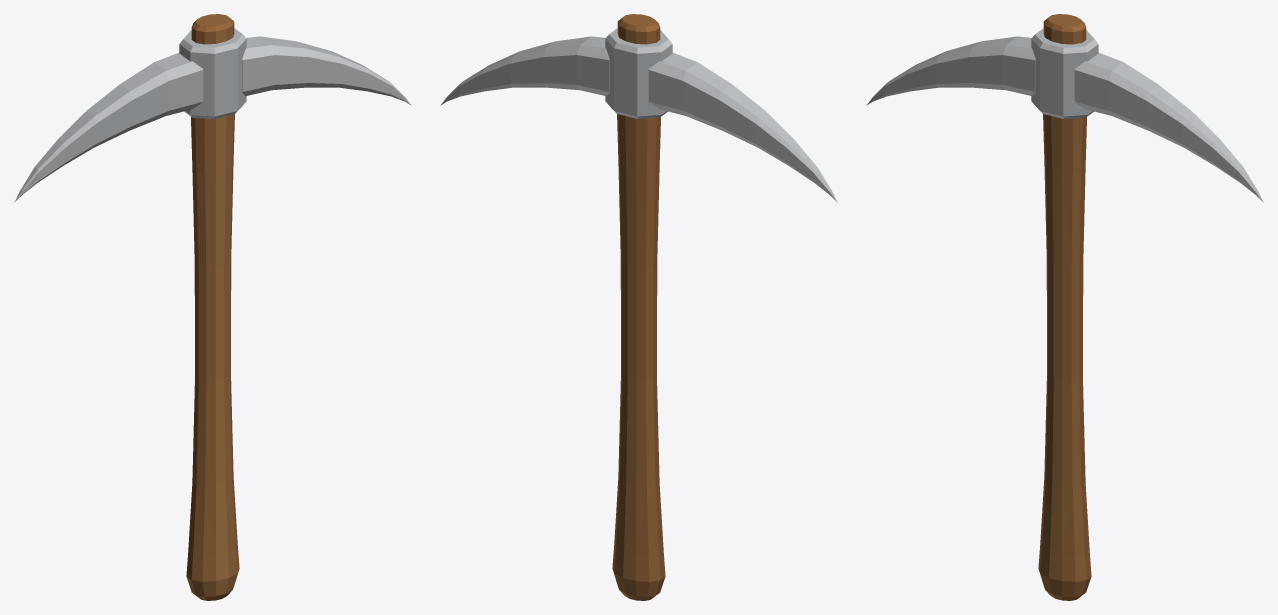
The model's file is Mining Pickaxe.glb.
3 renders of one model, left to right at view 1: azimuth 30°, elevation 25°; view 2: azimuth 150°, elevation 25°; view 3: azimuth 330°, elevation 25°, orthographic.
Parts seen in each view (by area): view 1: Mining Pickaxe.Static; view 2: Mining Pickaxe.Static; view 3: Mining Pickaxe.Static.
Boxes of the visible parts, x1,y1,x2,y2 form: Mining Pickaxe.Static: (14, 14, 411, 600); Mining Pickaxe.Static: (440, 14, 837, 600); Mining Pickaxe.Static: (866, 14, 1263, 600).
Size of the model in its own units: 0.81 by 1.12 by 0.0942.
